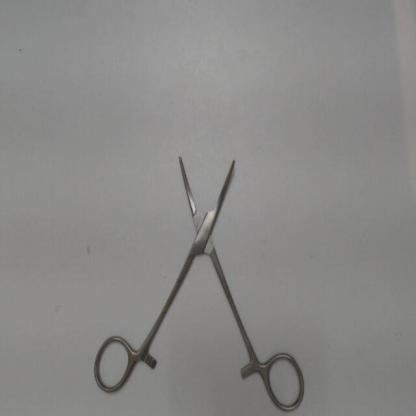Crile Artery Forceps: (89, 142, 309, 415)
